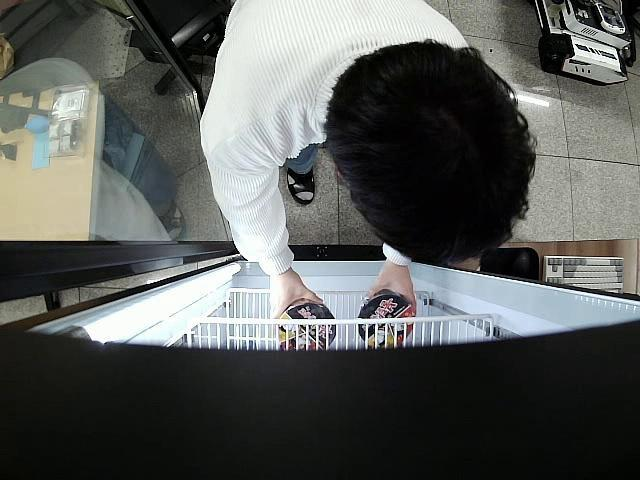07_buldak_L: (354, 295, 416, 348), (276, 300, 338, 352)
